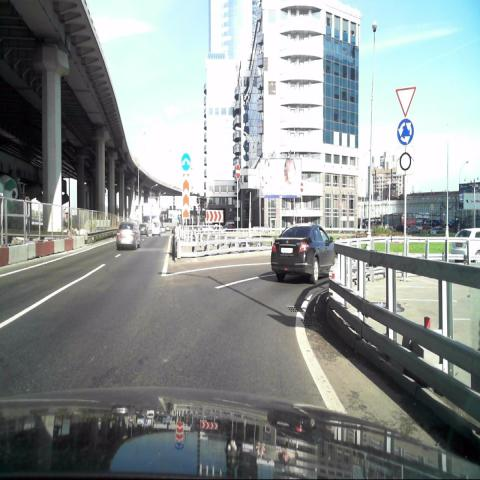4_3: (396, 117, 415, 147)
8_13_1: (399, 150, 411, 171)
